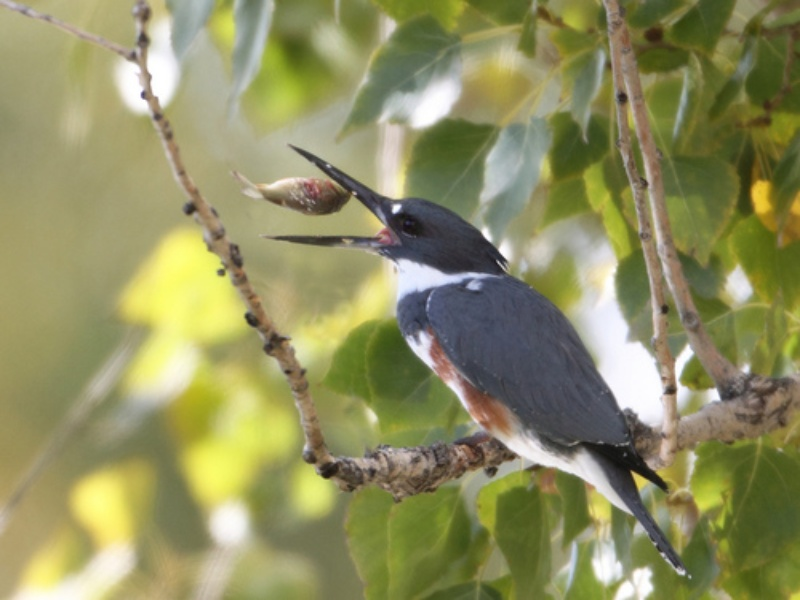kingfisher: (262, 141, 695, 580)
